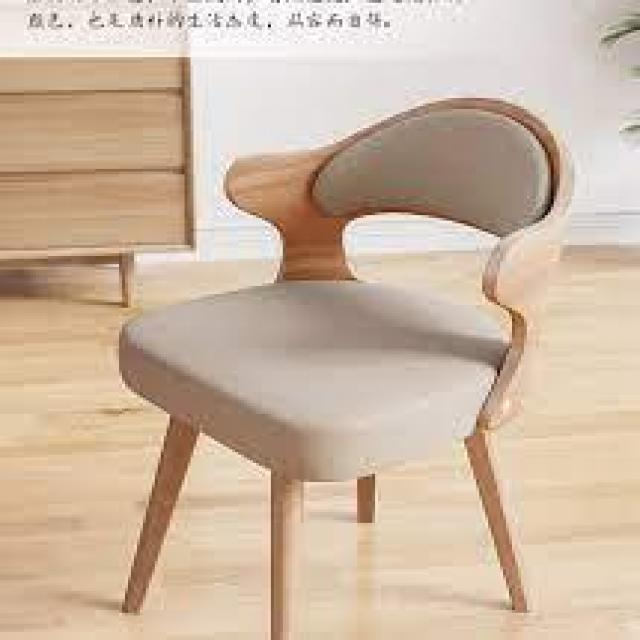chair: (85, 97, 585, 617)
